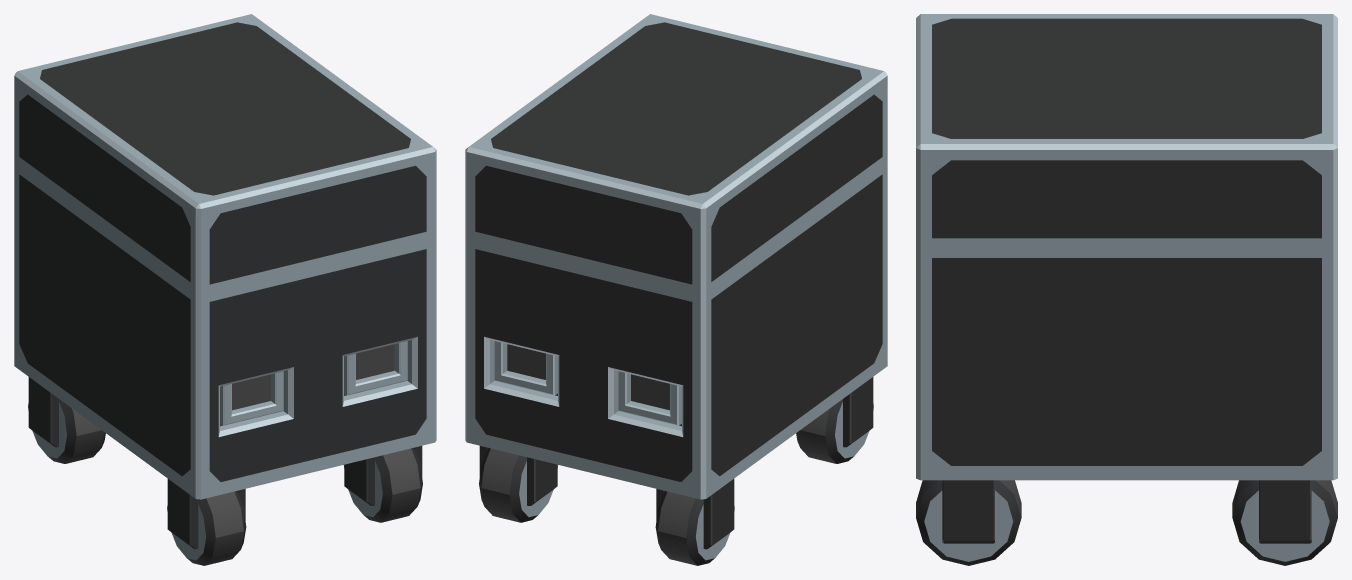
Rendered from StageBox.fbx.
The picture shows the model from 3 angles, left to right: view 1: azimuth 30°, elevation 25°; view 2: azimuth 150°, elevation 25°; view 3: azimuth 270°, elevation 25°; orthographic projection. The views are drawn at different scales.
Visible parts, largest first — view 1: StageBox_Main, WheelR1, WheelR2, WheelR4, WheelBracketR1, WheelBracketR4, WheelBracketR2; view 2: StageBox_Main, WheelR4, WheelR3, WheelR1, WheelBracketR4, WheelBracketR1, WheelBracketR3; view 3: StageBox_Main, WheelR3, WheelR2, WheelBracketR3, WheelBracketR2.
Part boxes in pixels (bbox=[...]): StageBox_Main: bbox=[14, 14, 436, 499]; WheelR1: bbox=[167, 491, 246, 565]; WheelR2: bbox=[343, 447, 422, 522]; WheelR4: bbox=[28, 399, 105, 463]; WheelBracketR1: bbox=[167, 479, 245, 549]; WheelBracketR4: bbox=[28, 377, 58, 447]; WheelBracketR2: bbox=[344, 446, 422, 505]; StageBox_Main: bbox=[465, 14, 887, 499]; WheelR4: bbox=[655, 491, 734, 565]; WheelR3: bbox=[479, 447, 558, 522]; WheelR1: bbox=[796, 399, 873, 463]; WheelBracketR4: bbox=[656, 479, 734, 549]; WheelBracketR1: bbox=[843, 377, 873, 447]; WheelBracketR3: bbox=[479, 446, 557, 505]; StageBox_Main: bbox=[916, 14, 1337, 480]; WheelR3: bbox=[1232, 480, 1337, 565]; WheelR2: bbox=[916, 480, 1021, 565]; WheelBracketR3: bbox=[1259, 480, 1311, 543]; WheelBracketR2: bbox=[942, 480, 994, 543].
Size of the model in its own units: 60 by 90 by 80.
